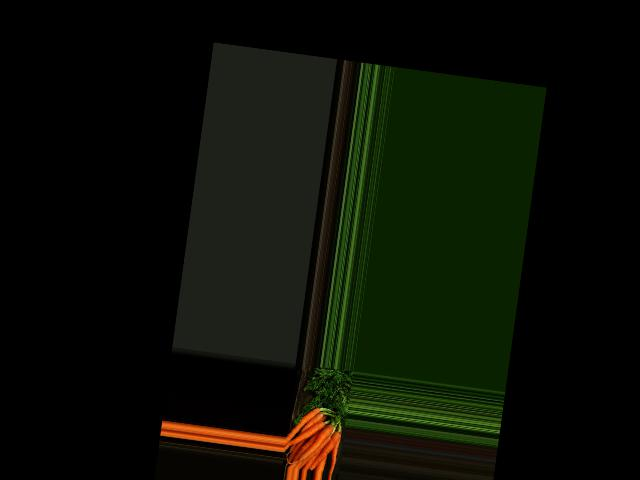carrot: (307, 426, 342, 474)
